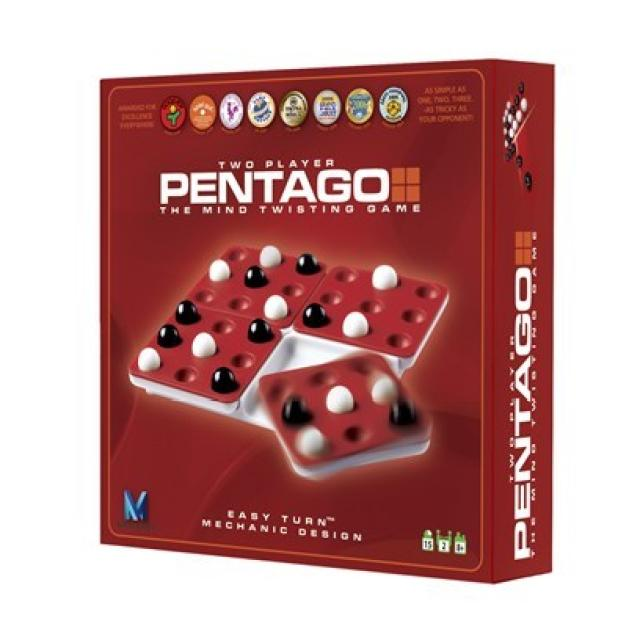pentago: (99, 56, 558, 584)
